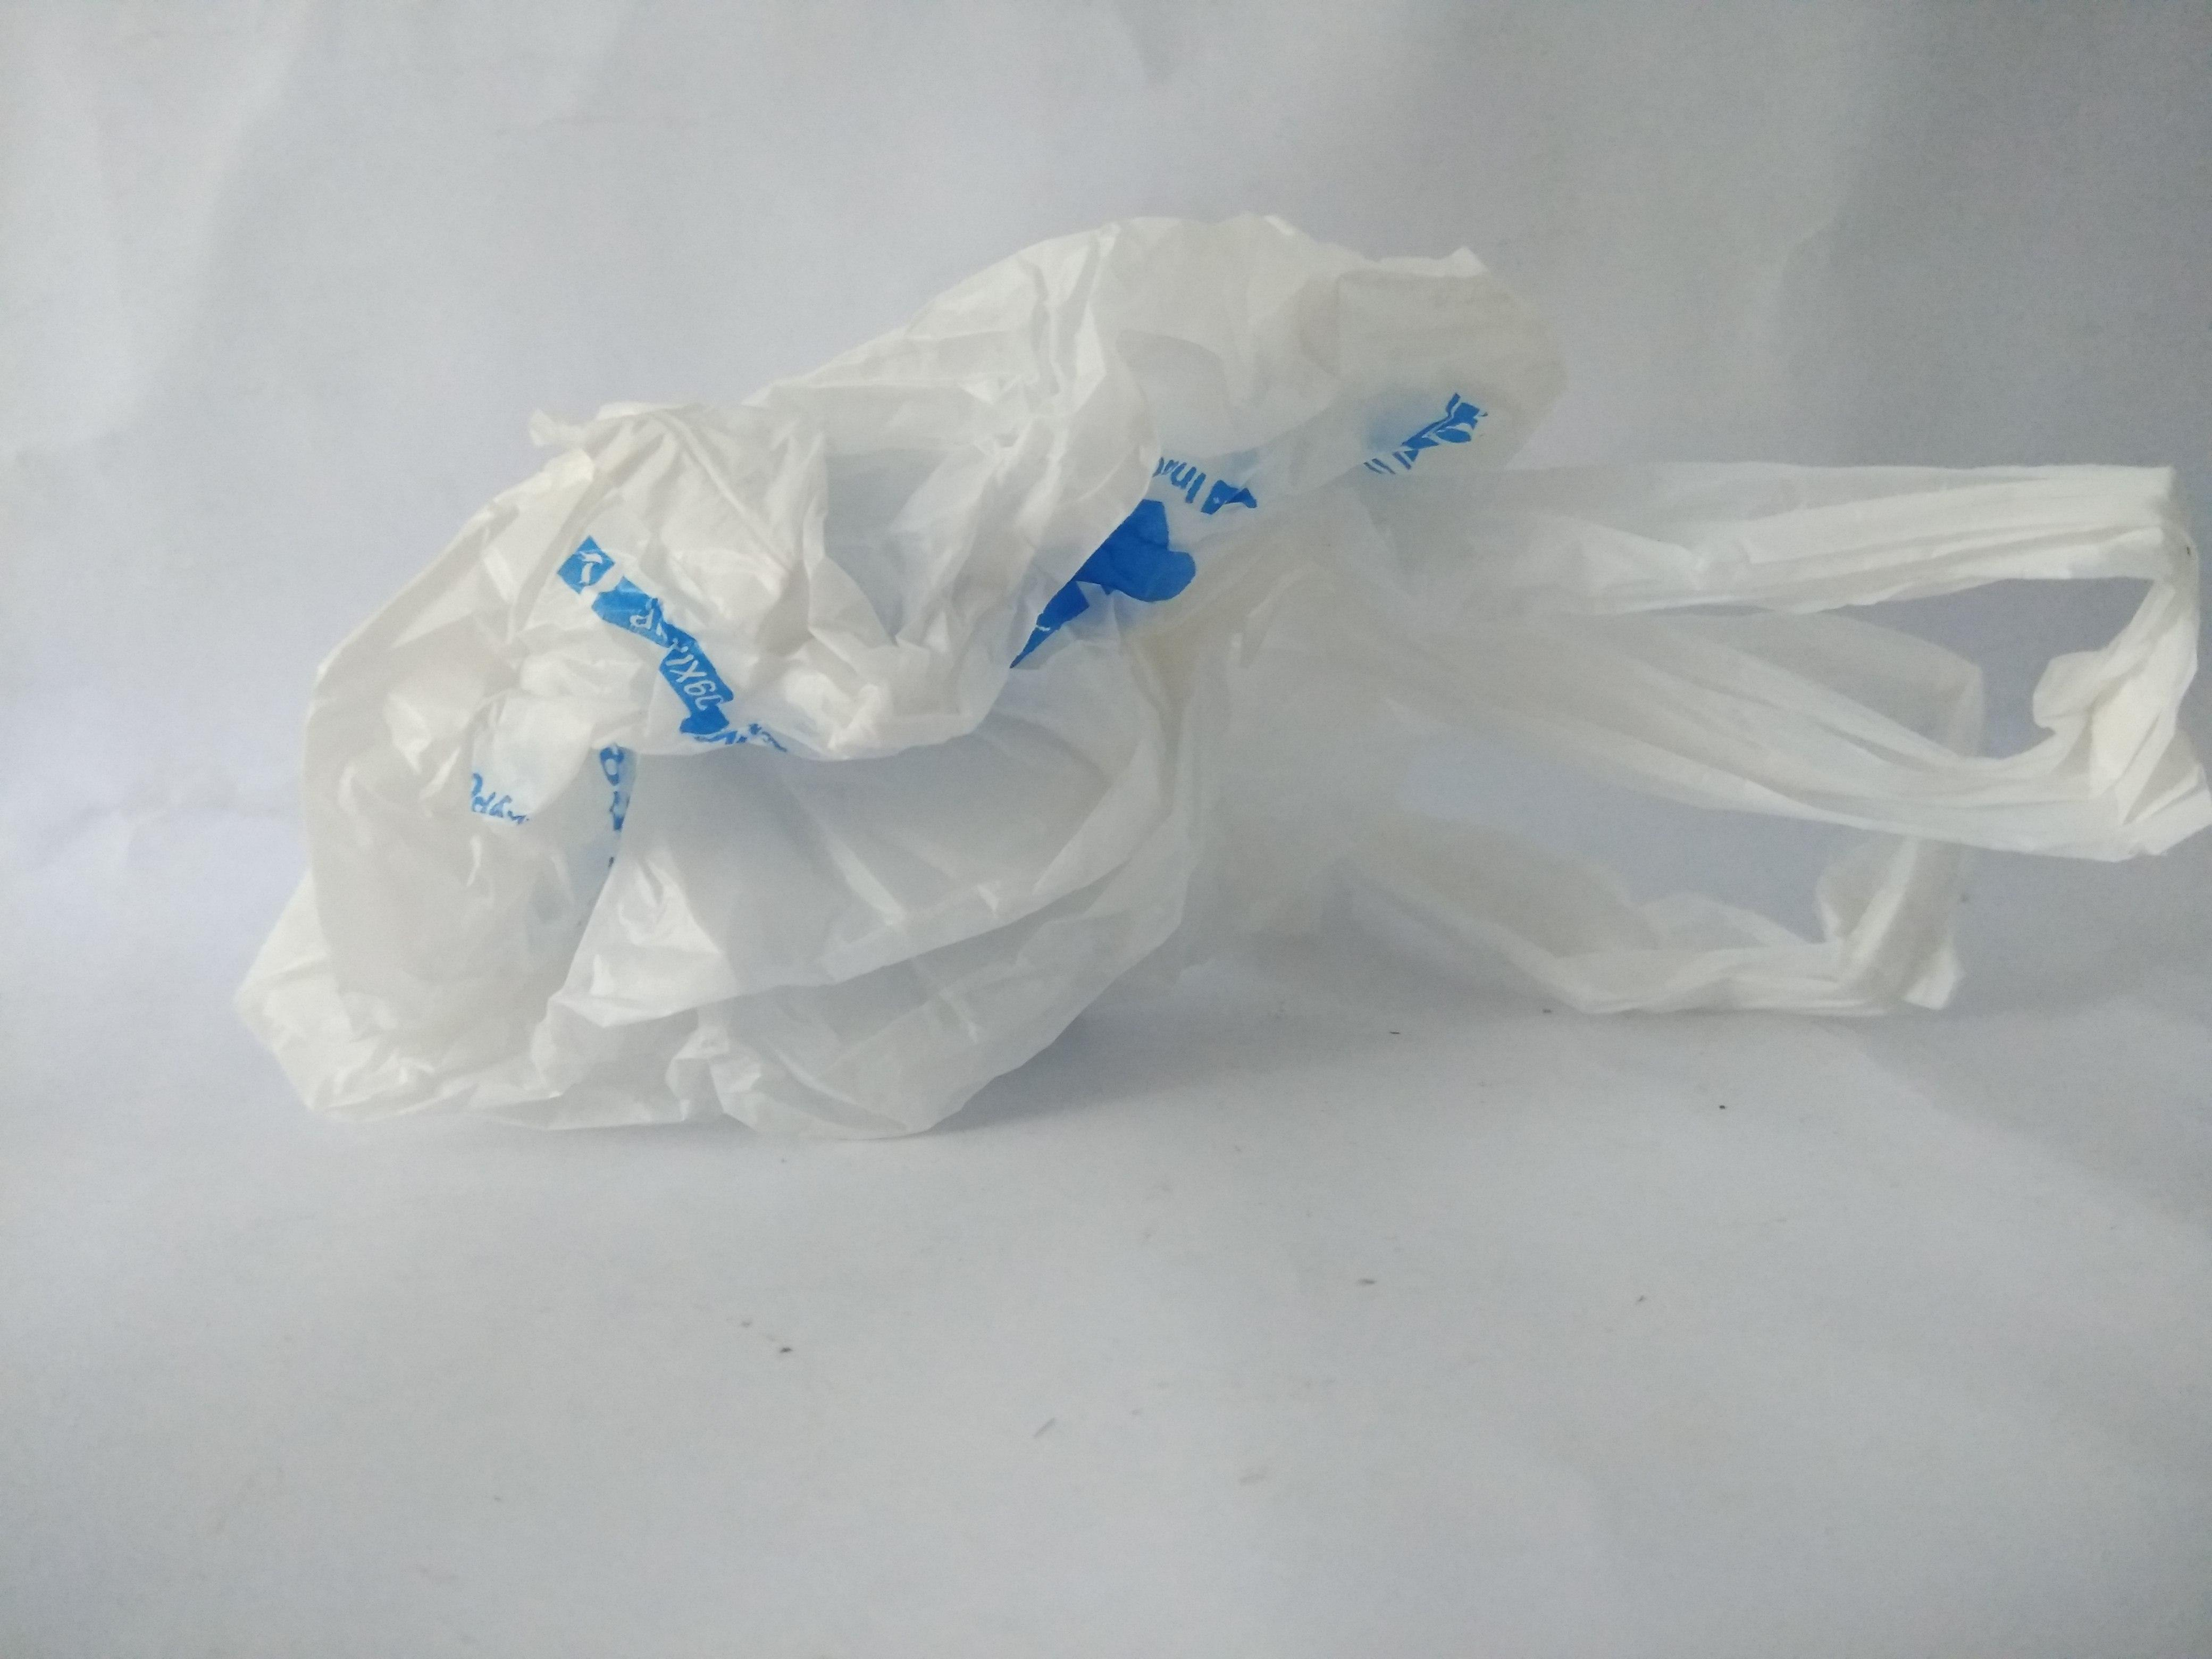LDPE: (139, 98, 2212, 1474)
